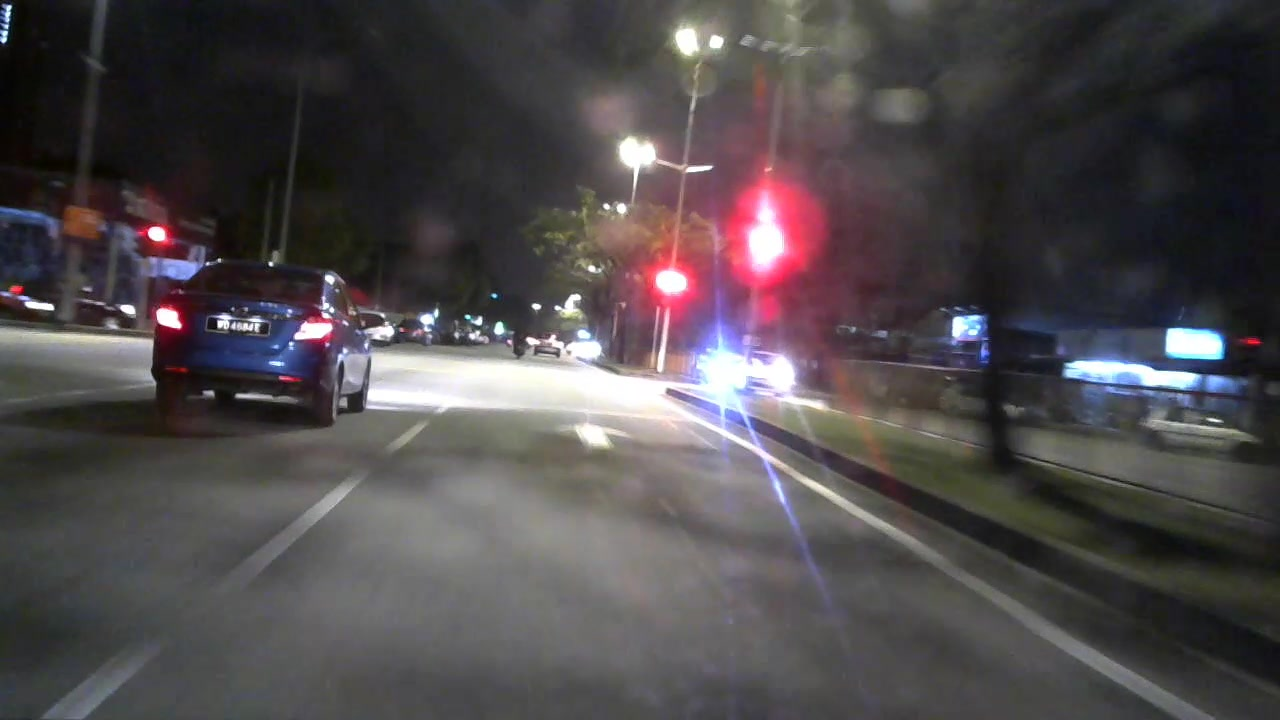Car: (142, 254, 367, 442), (1131, 396, 1262, 465), (355, 307, 399, 342), (394, 318, 434, 351), (530, 330, 564, 363)
